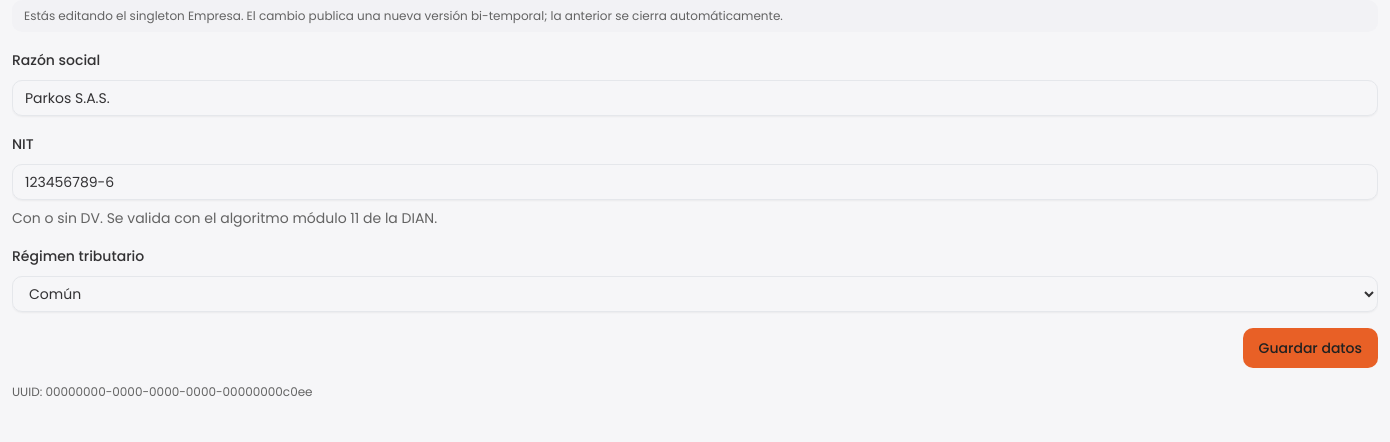
Test: EmpresaDatosTab › T4: NIT con DV incorrecto muestra error inline y deshabilita el submit
Replace the text in the field with test id "empresa-datos-nit" with "123456789-9". click: (695, 182)
box: [12,164,1378,200]
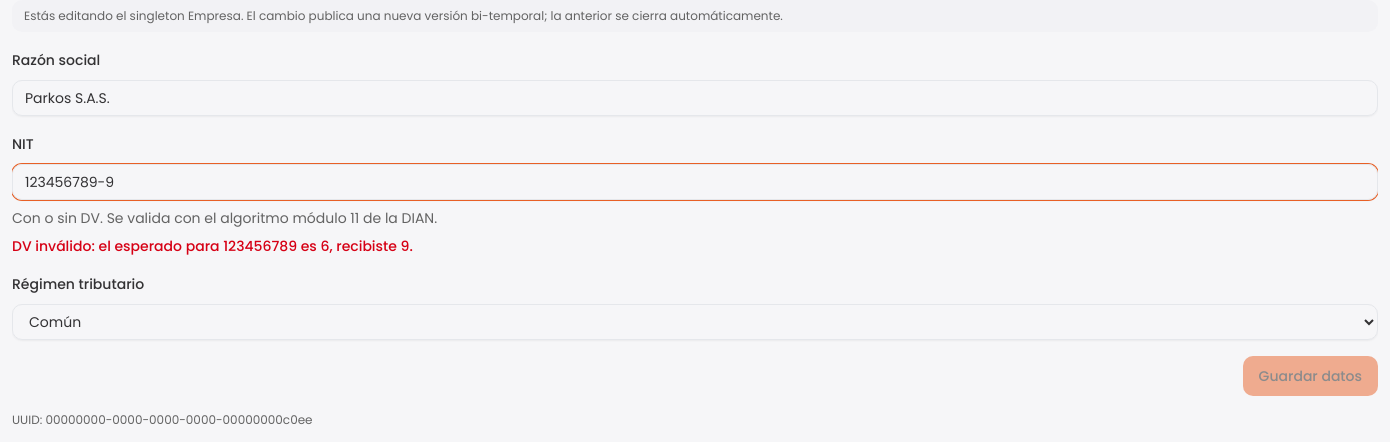
Expected: the message "DV inválido: el esperado para 123456789 es 6, recibiste 9." is shown, [12,236,413,256]
Expected: the button with test id "empresa-datos-submit" is disabled, [1243,356,1378,396]
